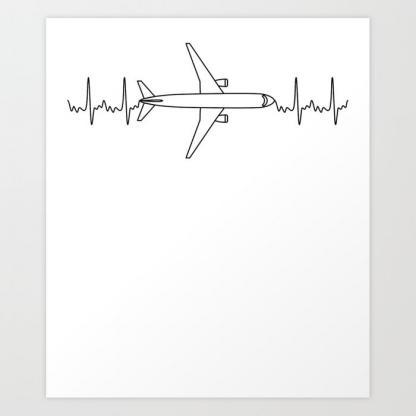CIV_Plane: (131, 35, 277, 162)
